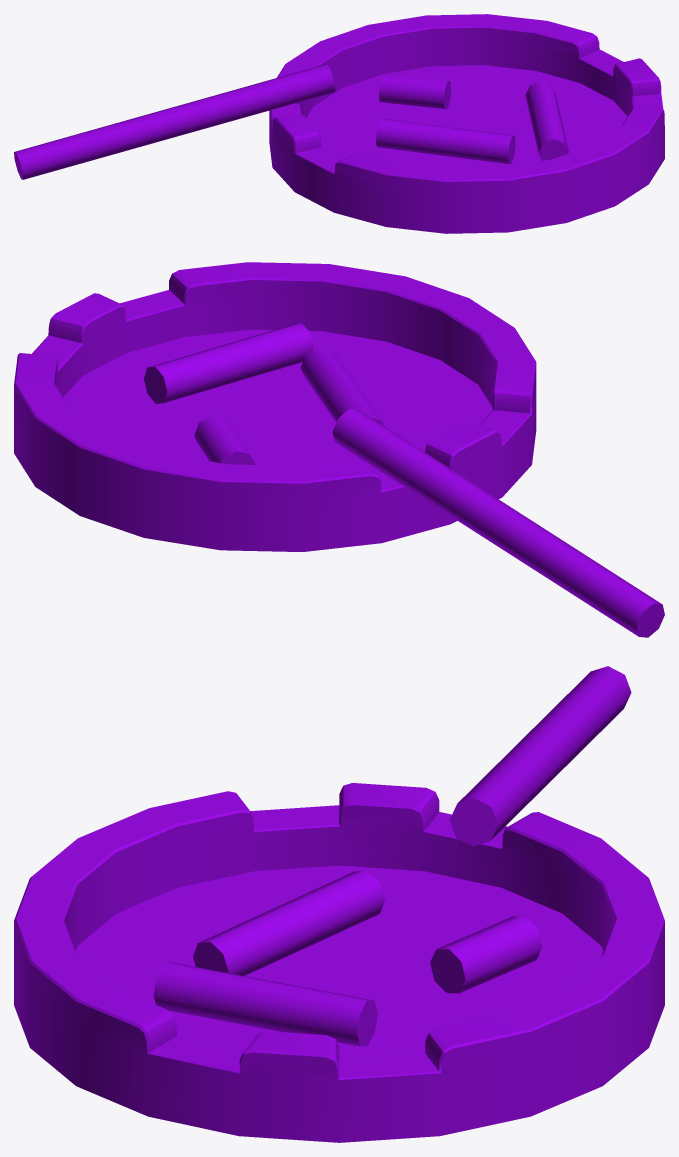
The model's file is Mesh_Ashtray.fbx.
The picture shows the model from 3 angles, top to bottom: view 1: azimuth 30°, elevation 25°; view 2: azimuth 150°, elevation 25°; view 3: azimuth 270°, elevation 25°; orthographic projection. The views are drawn at different scales.
Visible parts, largest first — view 1: polySurface86; view 2: polySurface86; view 3: polySurface86.
Boxes of the visible parts, bbox=[...] form: polySurface86: bbox=[14, 14, 664, 233]; polySurface86: bbox=[14, 262, 664, 637]; polySurface86: bbox=[14, 666, 664, 1142].
Bounding box in the file's own units: 22.65 × 3.15 × 14.38.
